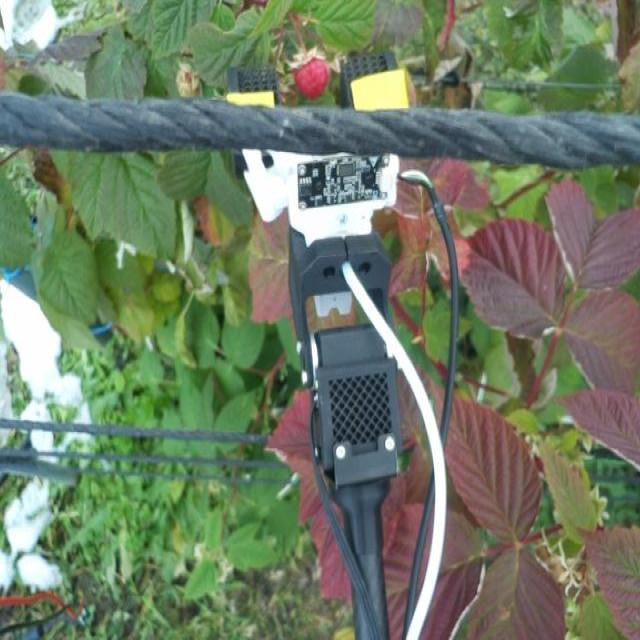Riped berries: (291, 53, 331, 100)
